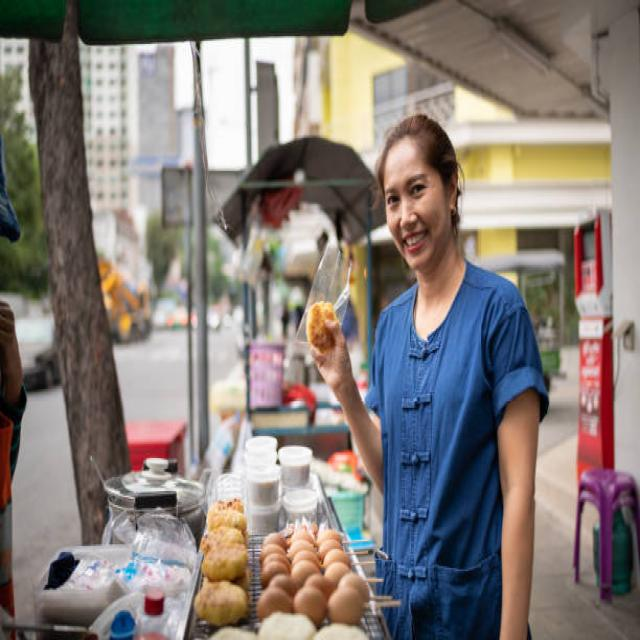Emperan: (0, 230, 546, 640)
